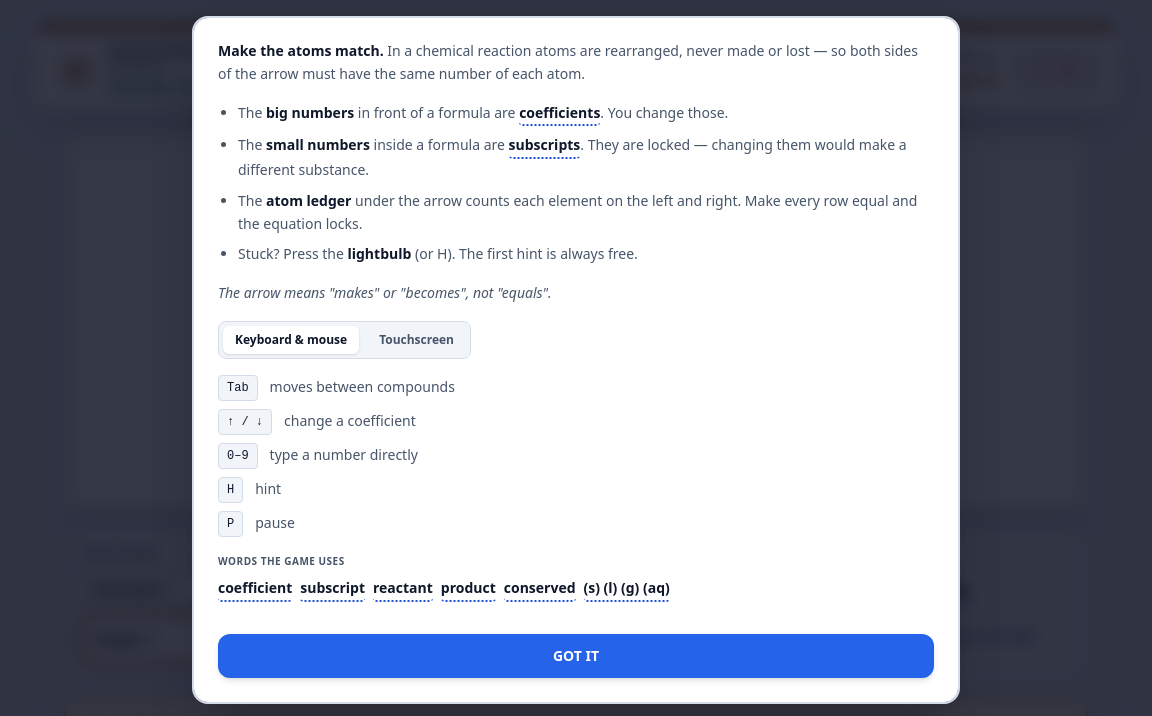
Test case: Reaction Balancer page (game flow) › opens the instructions on a first visit, freezes the cards, and remembers the dismissal
The image size is (1152, 716).
(page scrolled)
Expected: the text "Make the atoms match." is shown, [218,41,384,60]
Expected: the list item "The first hint is always free" is shown, [411,244,638,263]
Step 1. Click the button "GOT IT" → (576, 656), box [218,634,934,678]
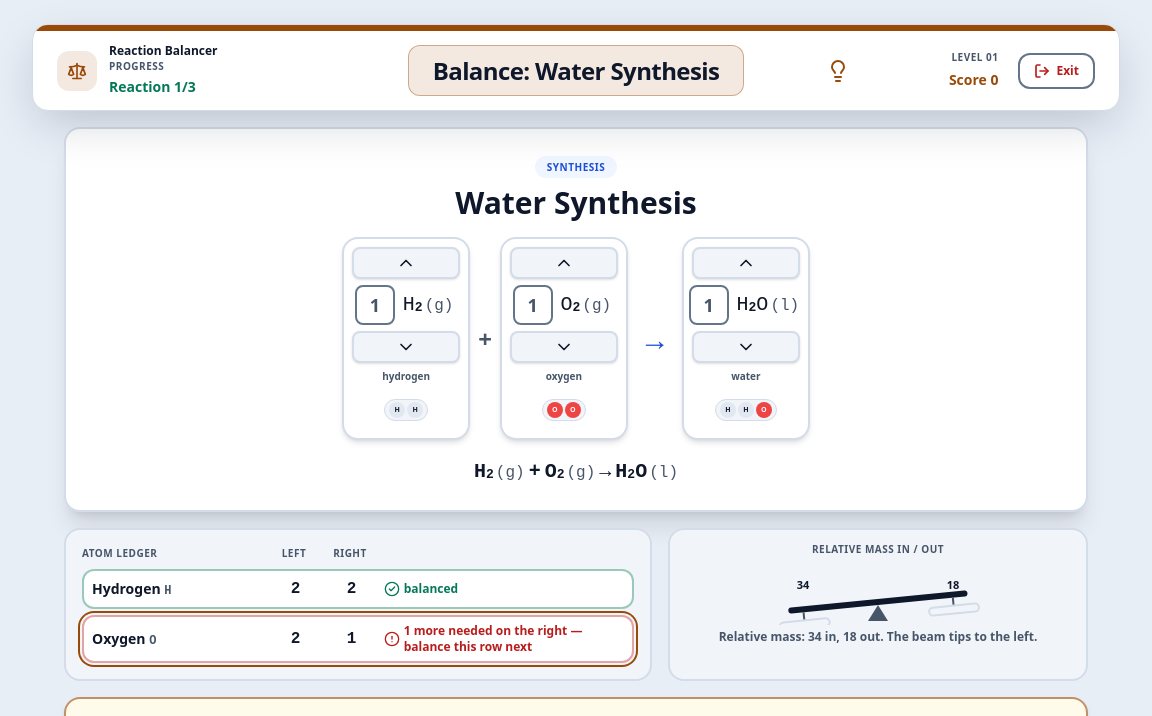
Now the field named "Coefficient for water, H2O" is enabled, box [688,285,728,325]
